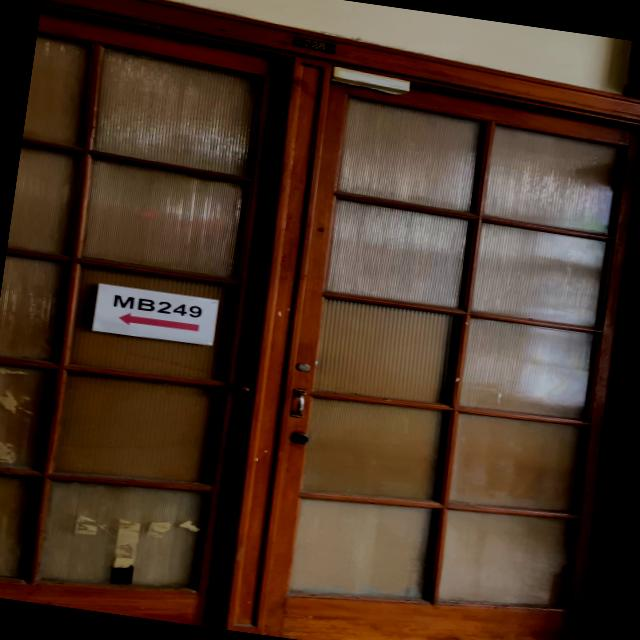room228: (286, 33, 340, 57)
